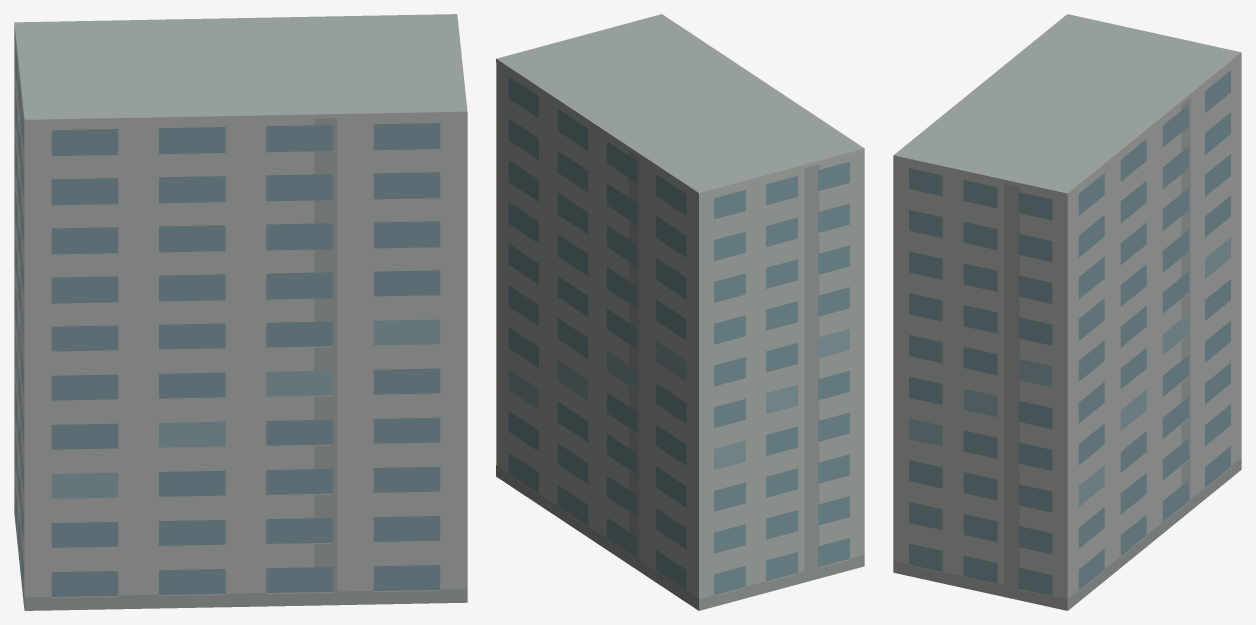
Rendered from residential-9a39e37d-156d-4213-bff1-019f5e5d17f0.glb.
3 renders of one model, left to right at view 1: azimuth 30°, elevation 25°; view 2: azimuth 150°, elevation 25°; view 3: azimuth 270°, elevation 25°, orthographic. The views are drawn at different scales.
Visible parts, largest first — view 1: residential-9a39e37d-156d-4213-bff1-019f5e5d17f0.tmp; view 2: residential-9a39e37d-156d-4213-bff1-019f5e5d17f0.tmp; view 3: residential-9a39e37d-156d-4213-bff1-019f5e5d17f0.tmp.
Part boxes in pixels (x1=…): residential-9a39e37d-156d-4213-bff1-019f5e5d17f0.tmp: x1=14, y1=14, x2=467, y2=610; residential-9a39e37d-156d-4213-bff1-019f5e5d17f0.tmp: x1=496, y1=14, x2=864, y2=610; residential-9a39e37d-156d-4213-bff1-019f5e5d17f0.tmp: x1=893, y1=14, x2=1241, y2=610.
Bounding box in the file's own units: 25.84 × 28 × 21.17.
